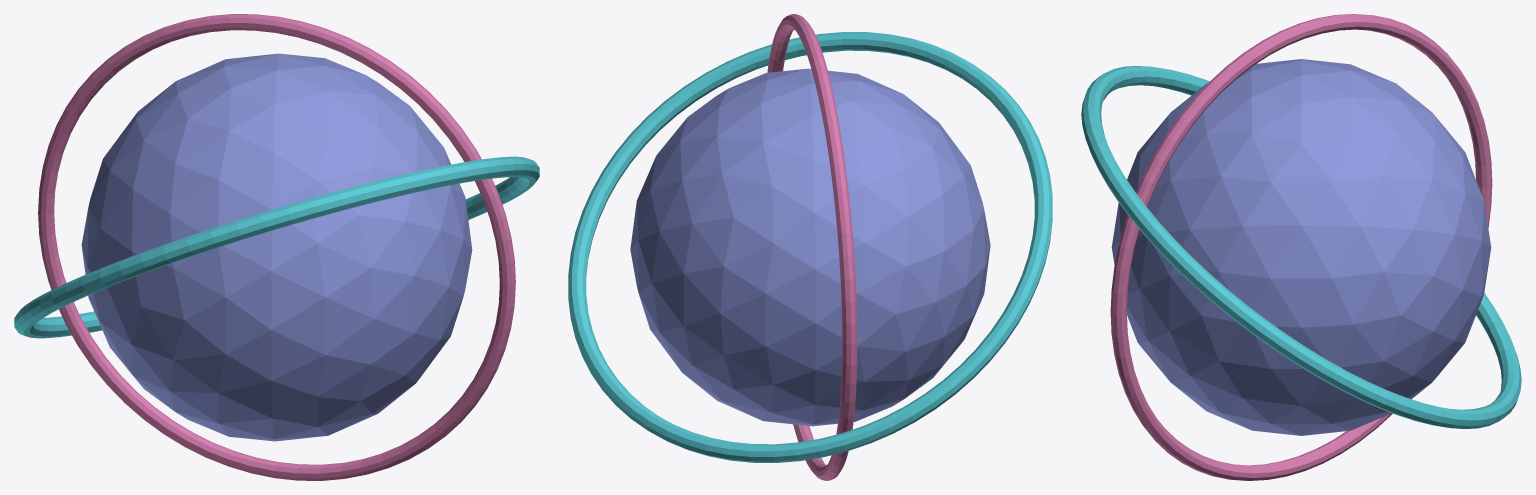
File: mujtaba-neon-orb.glb
The picture shows the model from 3 angles, left to right: view 1: azimuth 30°, elevation 25°; view 2: azimuth 150°, elevation 25°; view 3: azimuth 270°, elevation 25°; orthographic projection. The views are drawn at different scales.
Visible parts, largest first — view 1: NeonOrb, PinkRing, CyanRing; view 2: NeonOrb, CyanRing, PinkRing; view 3: NeonOrb, PinkRing, CyanRing.
Part boxes in pixels (left/top/right/bottom): NeonOrb: left=81, top=53, right=472, bottom=441; PinkRing: left=38, top=14, right=515, bottom=480; CyanRing: left=14, top=156, right=539, bottom=338; NeonOrb: left=630, top=68, right=990, bottom=426; CyanRing: left=568, top=32, right=1052, bottom=462; PinkRing: left=767, top=14, right=857, bottom=480; NeonOrb: left=1111, top=59, right=1491, bottom=435; PinkRing: left=1110, top=14, right=1492, bottom=480; CyanRing: left=1081, top=66, right=1521, bottom=428.
Size of the model in its own units: 2.95 by 2.73 by 2.44.
